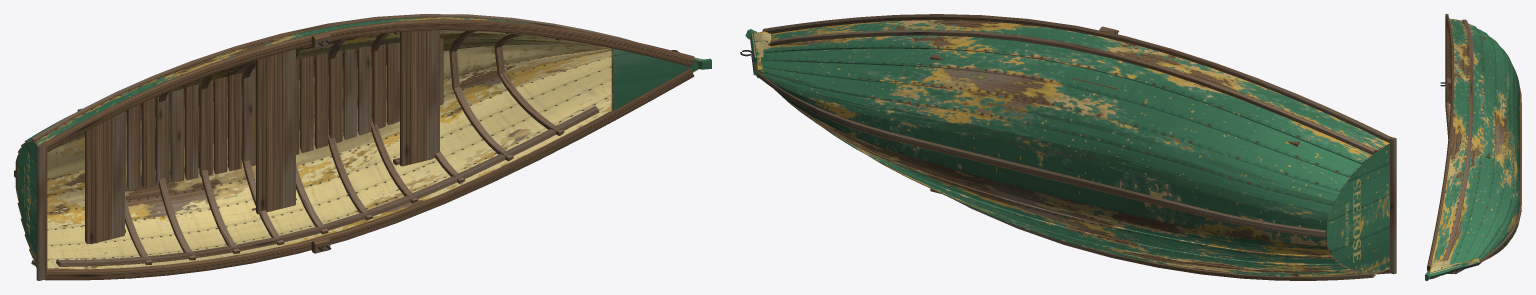
Rendered from lakeboat.obj.
3 views of the same model, side by side, from view 1: azimuth 30°, elevation 25°; view 2: azimuth 150°, elevation 25°; view 3: azimuth 270°, elevation 25° (orthographic). The views are drawn at different scales.
Visible parts, largest first — view 1: lakeboat; view 2: lakeboat; view 3: lakeboat.
Part boxes in pixels (left/top/right/bottom): lakeboat: left=14, top=14, right=711, bottom=280; lakeboat: left=740, top=14, right=1396, bottom=280; lakeboat: left=1425, top=14, right=1521, bottom=280.
Size of the model in its own units: 4.44 by 1.39 by 0.8313.
